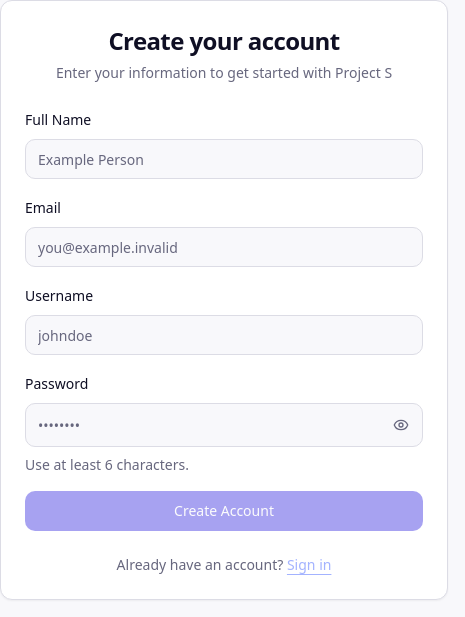
Scenario: signup accessibility and recovery › associates the password label and hint with the input and supports keyboard visibility controls
This screenshot has width=465, height=617.
Type "Synthetic-local-Aa1!" into the password field labelled "Password" at (224, 425), box [25, 403, 423, 447]
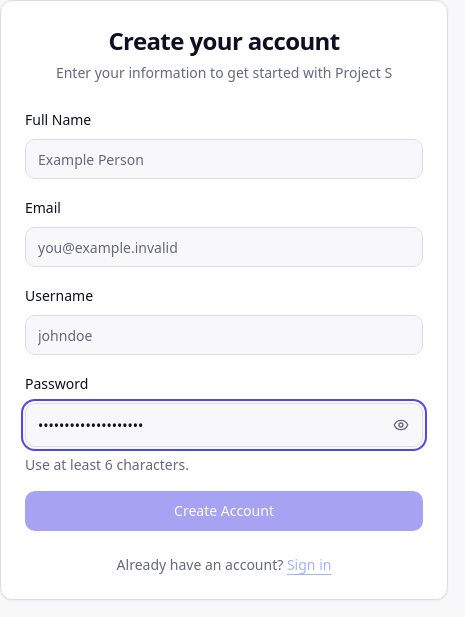
Press Tab
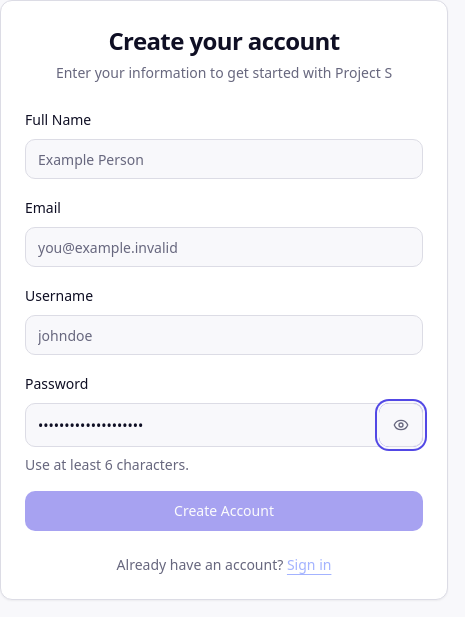
Press Enter
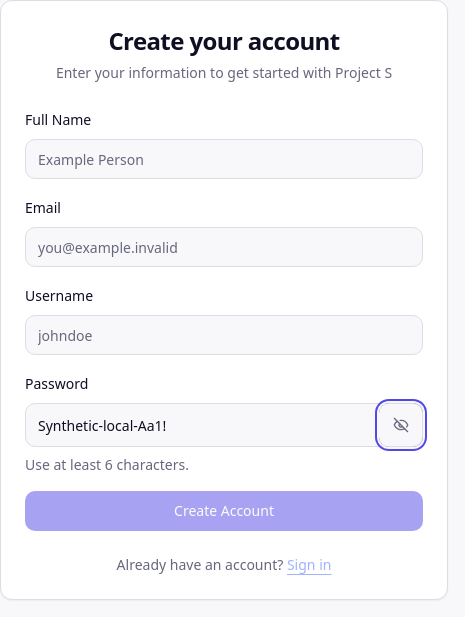
Expected: the field labelled "Password" shows its text, [25, 403, 423, 447]
Type keys " "
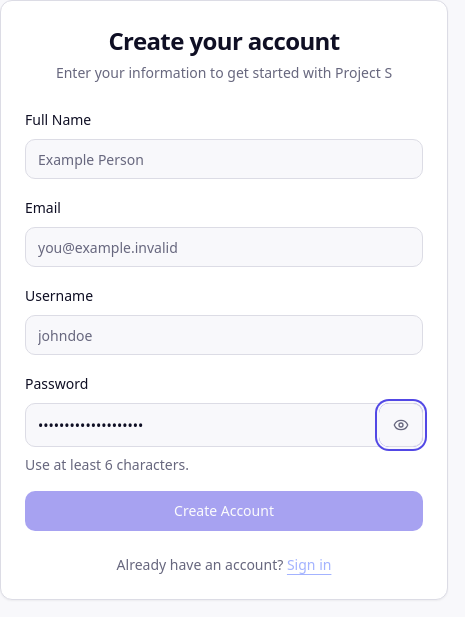
Expected: the text "Synthetic-local-Aa1!" is not shown
Expected: the password field labelled "Password" hides its text, [25, 403, 423, 447]
